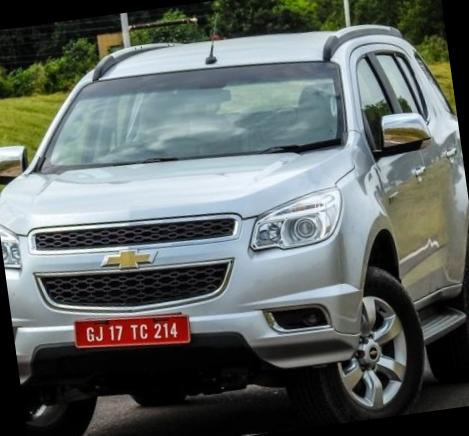plate: (60, 296, 213, 369)
